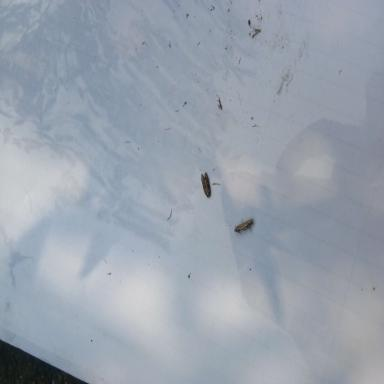pbw: (234, 219, 254, 236), (201, 172, 211, 198)
